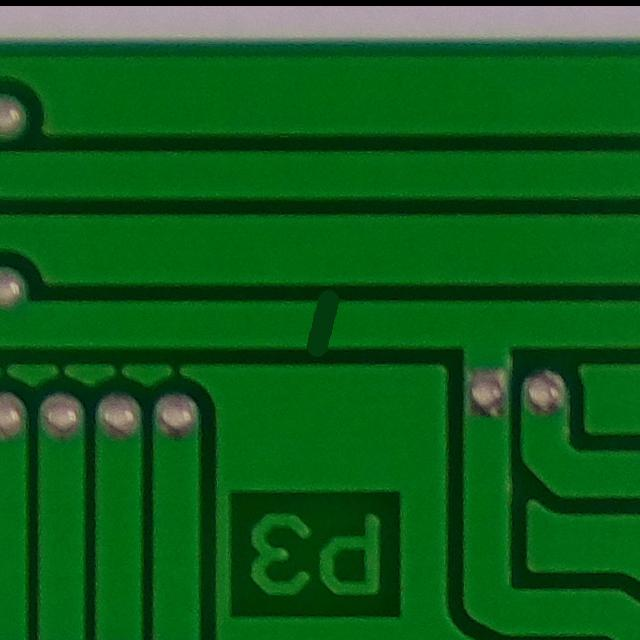open_circuit: (280, 285, 360, 354)
